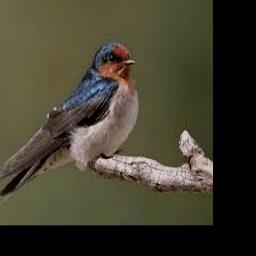Swallow: (0, 42, 140, 216)
